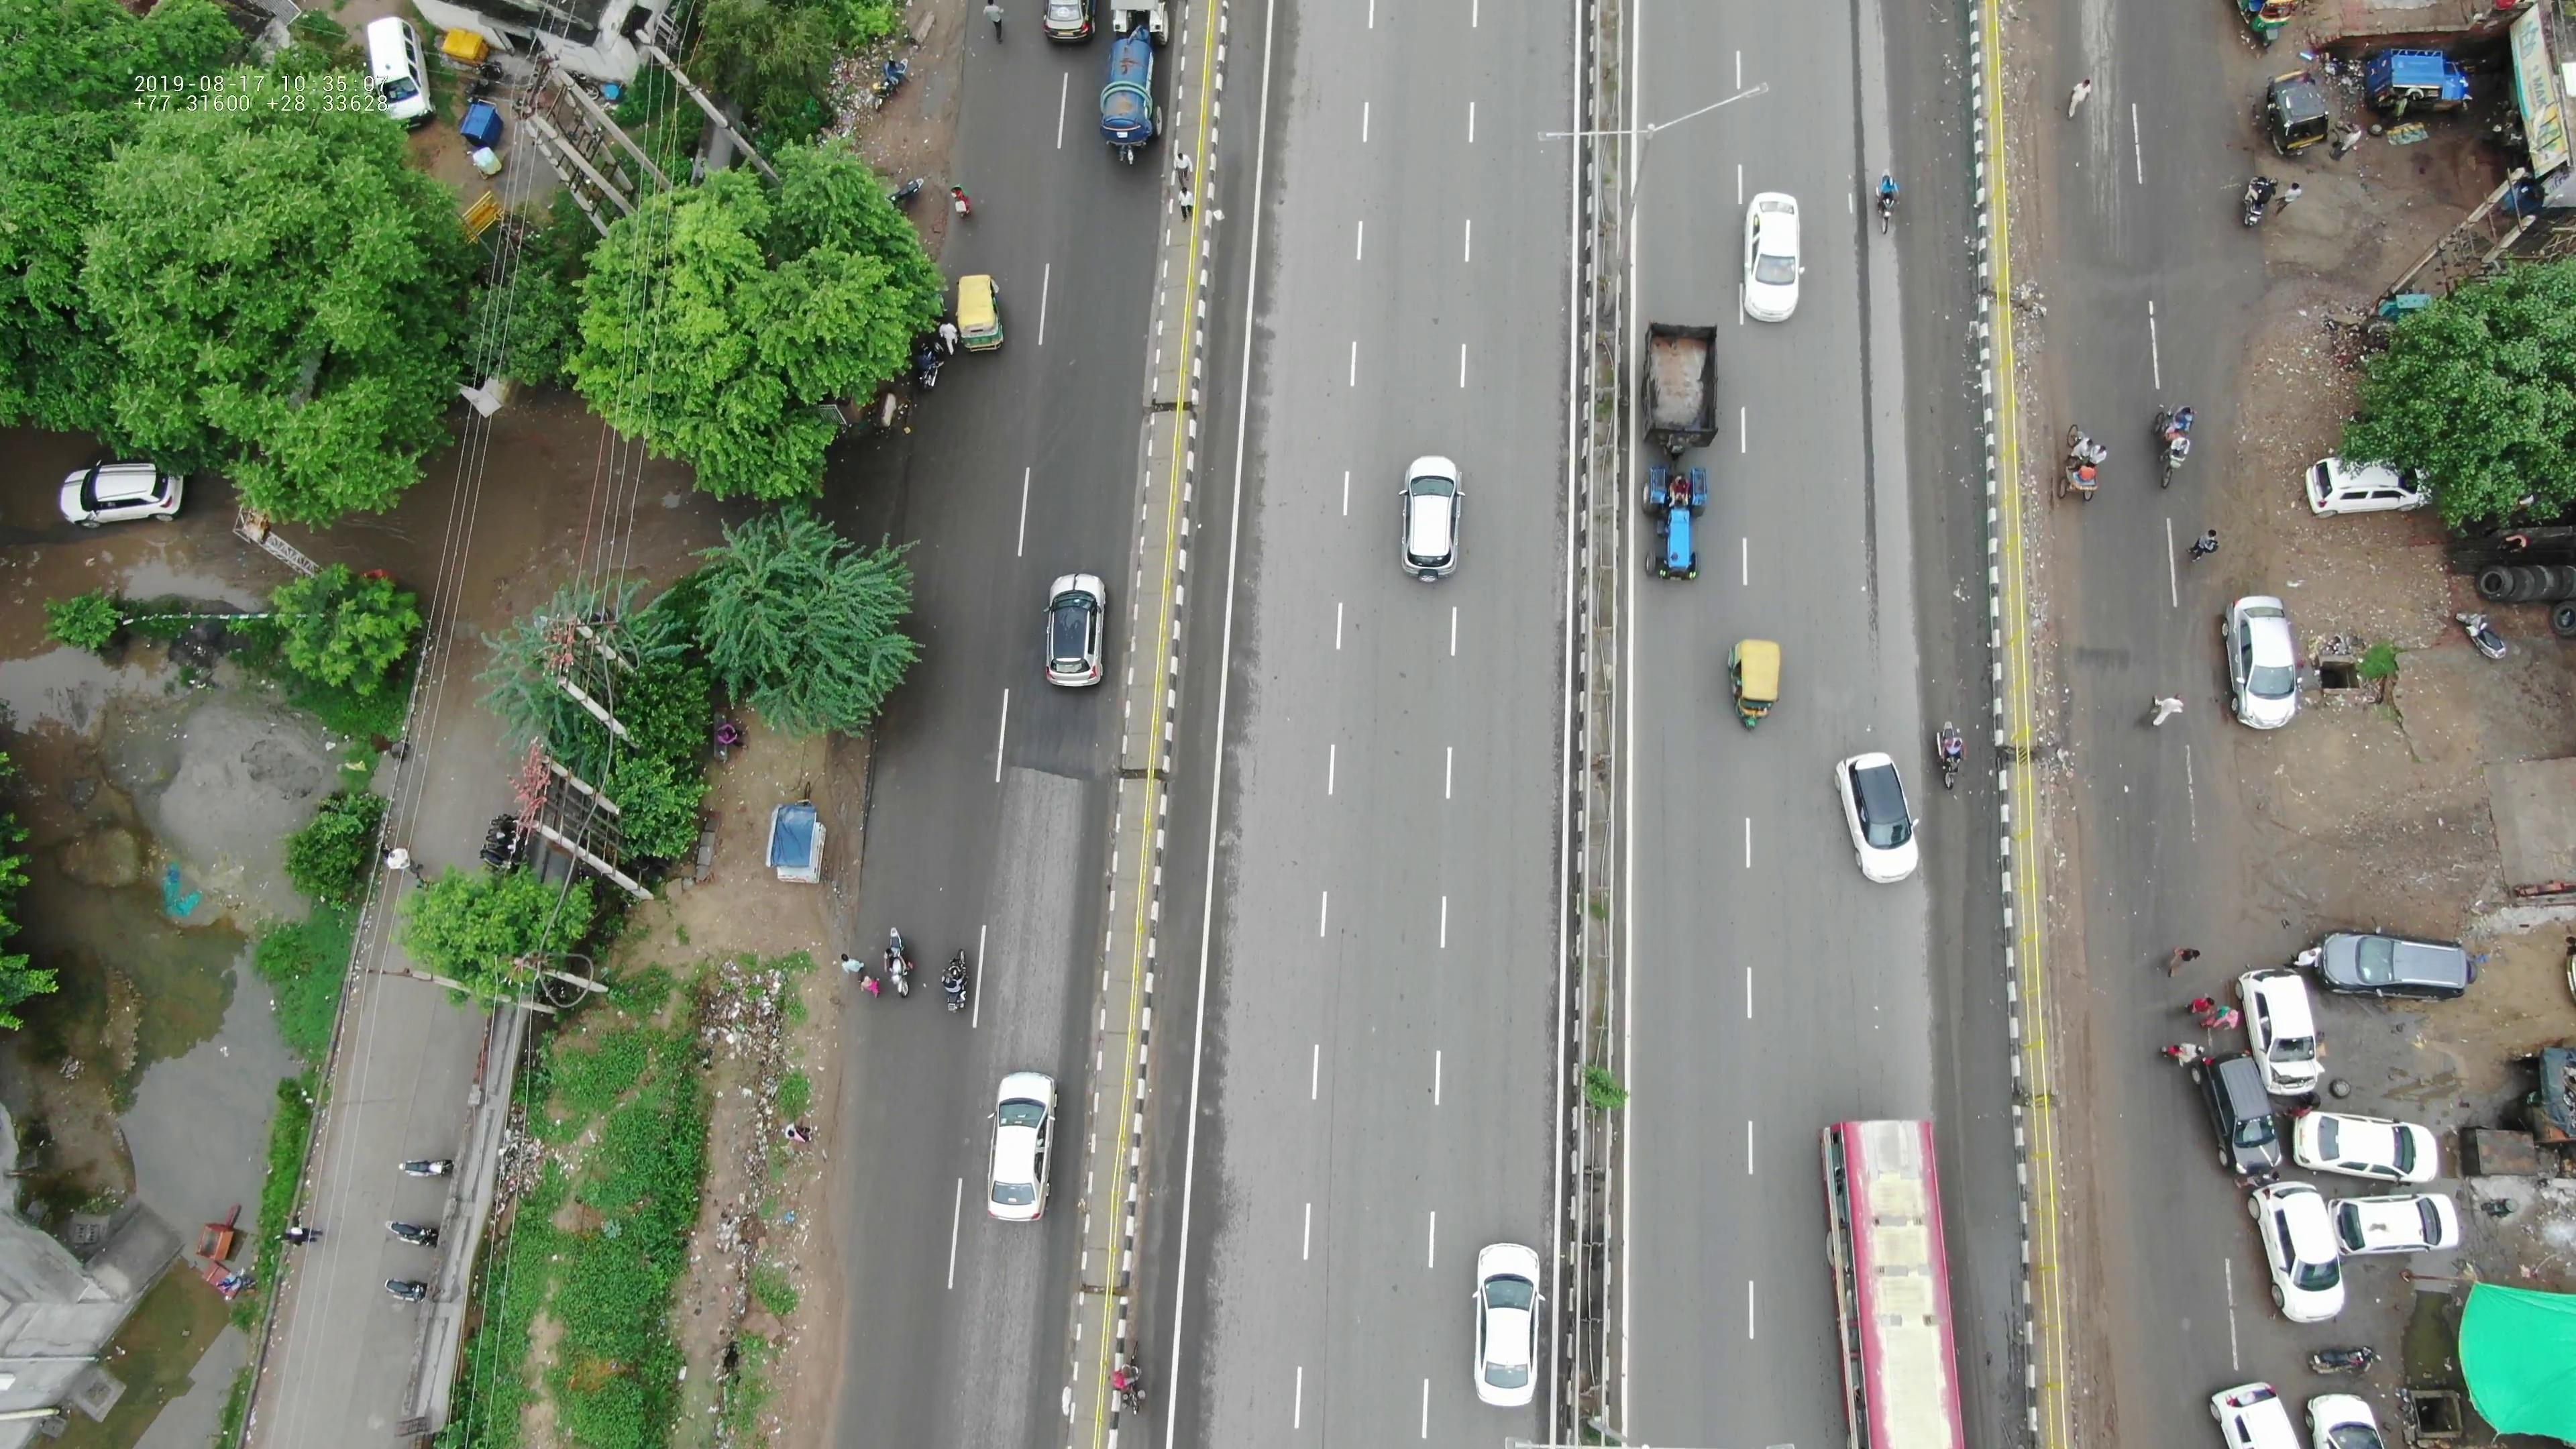Road_side_garbage: (679, 916, 819, 1113)
